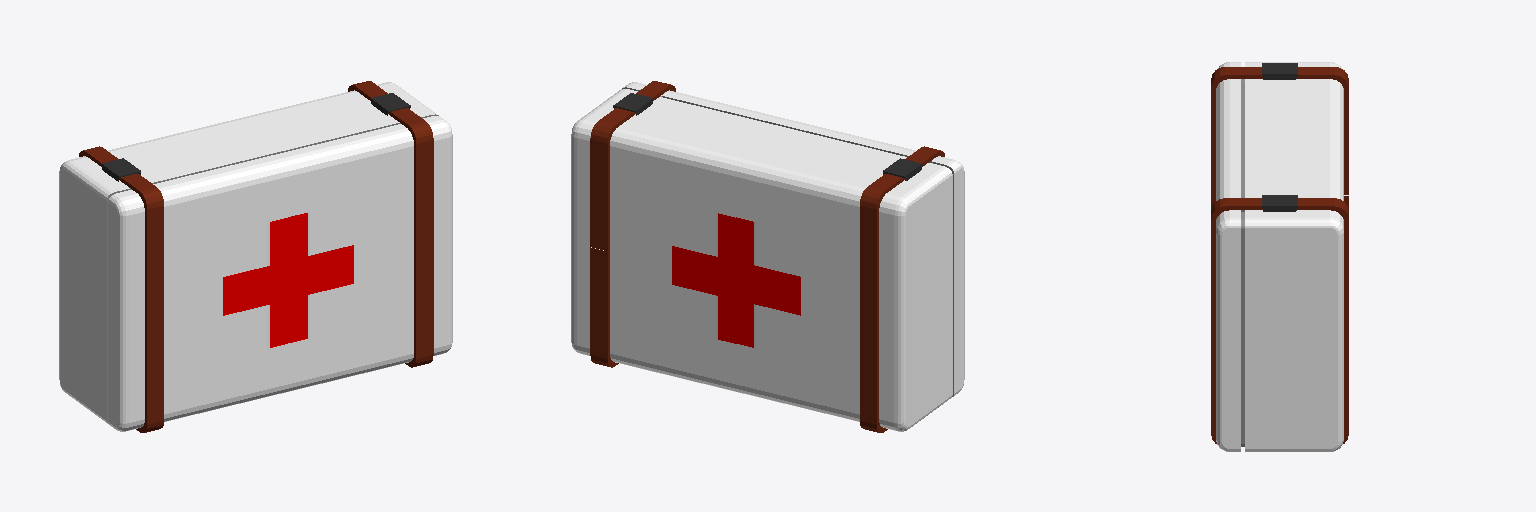
3 renders of one model, left to right at view 1: azimuth 30°, elevation 25°; view 2: azimuth 150°, elevation 25°; view 3: azimuth 270°, elevation 25°, orthographic.
Visible parts, largest first — view 1: Healthkit; view 2: Healthkit; view 3: Healthkit.
Boxes of the visible parts, x1=… form: Healthkit: x1=59, y1=81, x2=452, y2=432; Healthkit: x1=571, y1=81, x2=964, y2=432; Healthkit: x1=1211, y1=62, x2=1348, y2=451.
Size of the model in its own units: 0.6 by 0.4168 by 0.214.
1 materials, 1 textured.